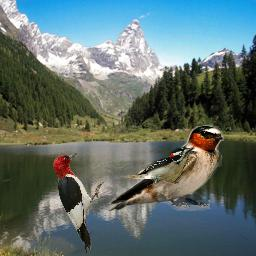Swallow: (108, 124, 224, 211)
Woodpecker: (52, 151, 104, 253), (124, 145, 195, 185)
